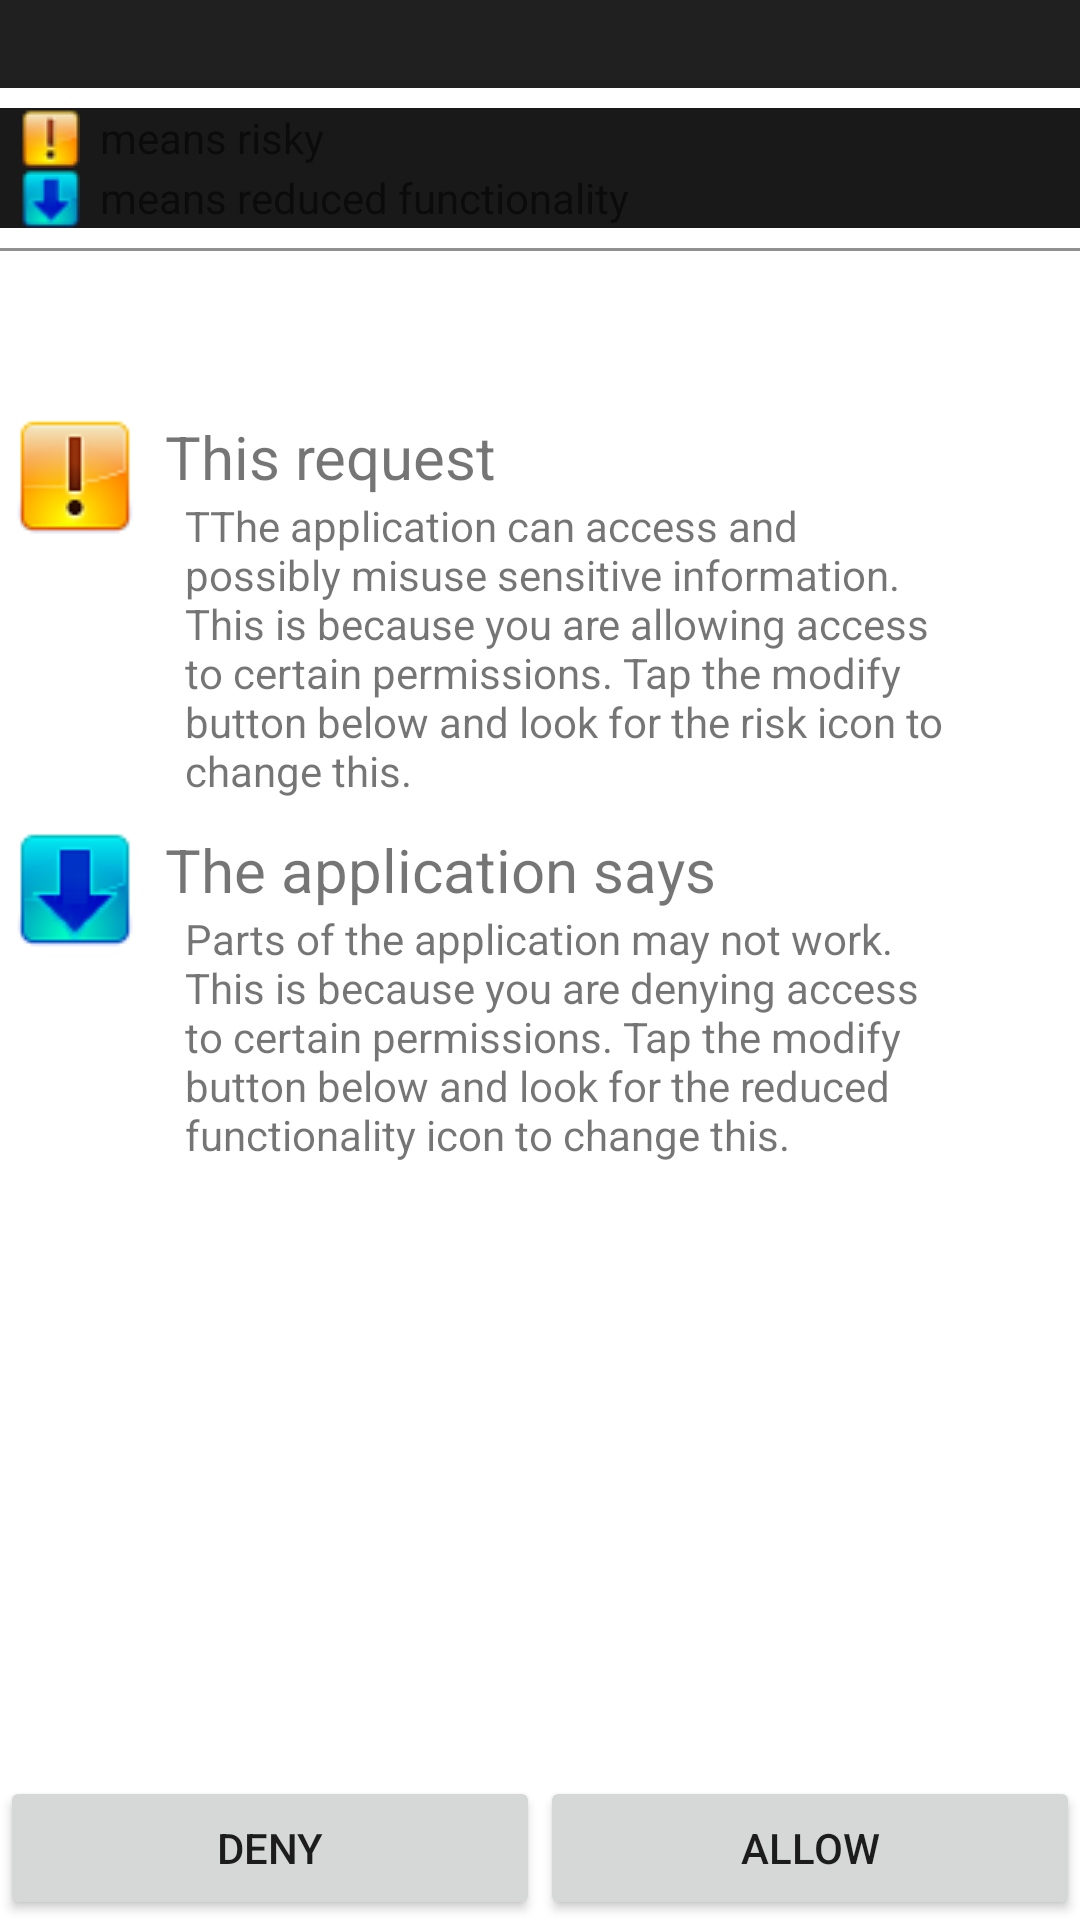

Named icons in this screenshot (1080 x 1920) and their centers, (x=x, y=y):
warn: (x=50, y=138), (x=75, y=476)
